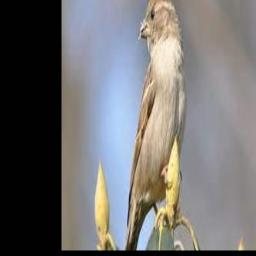Sparrow: (124, 0, 187, 249)
